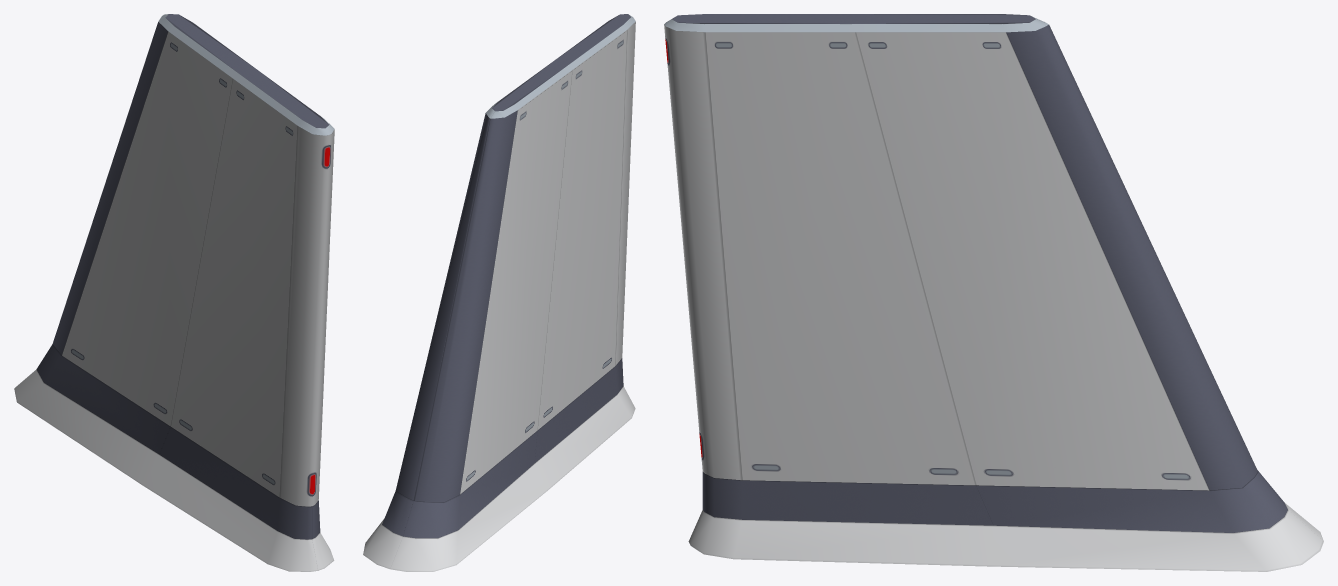
The model's file is Wing_02.FBX.
3 views of the same model, side by side, from view 1: azimuth 30°, elevation 25°; view 2: azimuth 150°, elevation 25°; view 3: azimuth 270°, elevation 25° (orthographic). The views are drawn at different scales.
Visible parts, largest first — view 1: Wing_02; view 2: Wing_02; view 3: Wing_02.
Part boxes in pixels (<box>): Wing_02: <box>14,14,334,571</box>; Wing_02: <box>363,14,635,571</box>; Wing_02: <box>664,14,1323,571</box>.
Bounding box in the file's own units: 0.8233 × 3.29 × 3.77.
